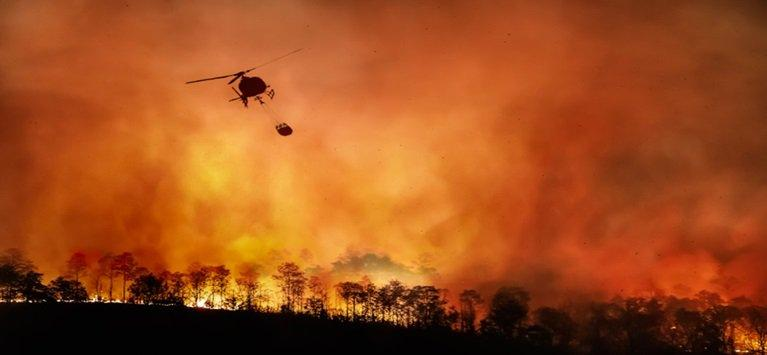fire: (190, 287, 237, 308), (80, 293, 131, 304)
smoke: (699, 80, 759, 172), (605, 139, 683, 196)
